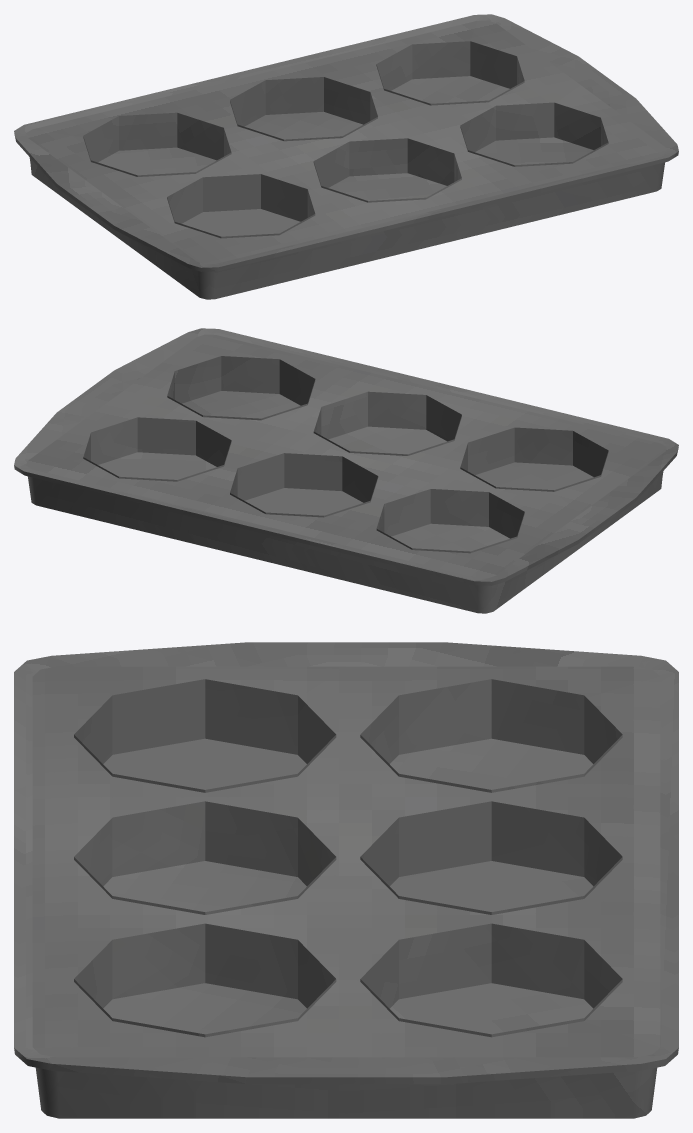
File: TrayMuffinEmpty.fbx
3 renders of one model, top to bottom at view 1: azimuth 30°, elevation 25°; view 2: azimuth 150°, elevation 25°; view 3: azimuth 270°, elevation 25°, orthographic. The views are drawn at different scales.
Visible parts, largest first — view 1: MuffinTrayEmpty; view 2: MuffinTrayEmpty; view 3: MuffinTrayEmpty.
Part boxes in pixels (left/top/right/bottom): MuffinTrayEmpty: left=14, top=14, right=678, bottom=299; MuffinTrayEmpty: left=14, top=328, right=678, bottom=613; MuffinTrayEmpty: left=14, top=642, right=678, bottom=1118.
Size of the model in its own units: 1.02 by 0.0763 by 0.6619.
